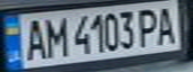0: (103, 9, 121, 52)
1: (87, 10, 106, 53)
3: (118, 8, 139, 50)
4: (69, 11, 90, 56)
A: (18, 16, 48, 61), (154, 3, 181, 45)
M: (39, 13, 69, 60)
P: (136, 6, 163, 47)
